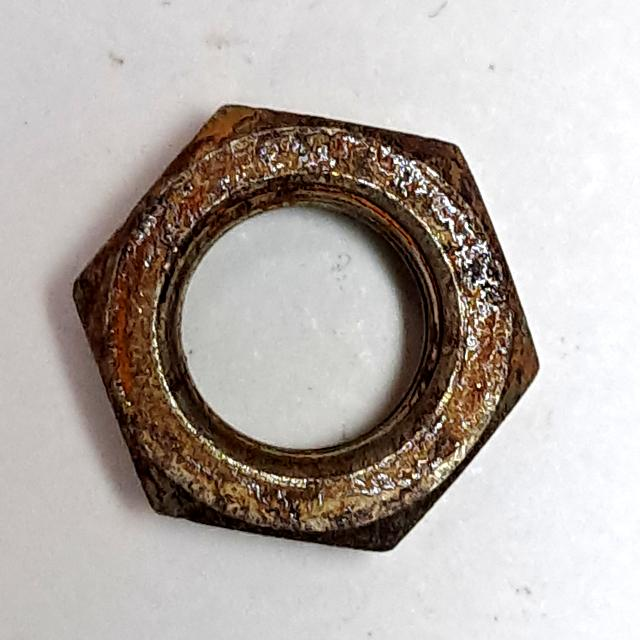Rust: (64, 87, 555, 578)
